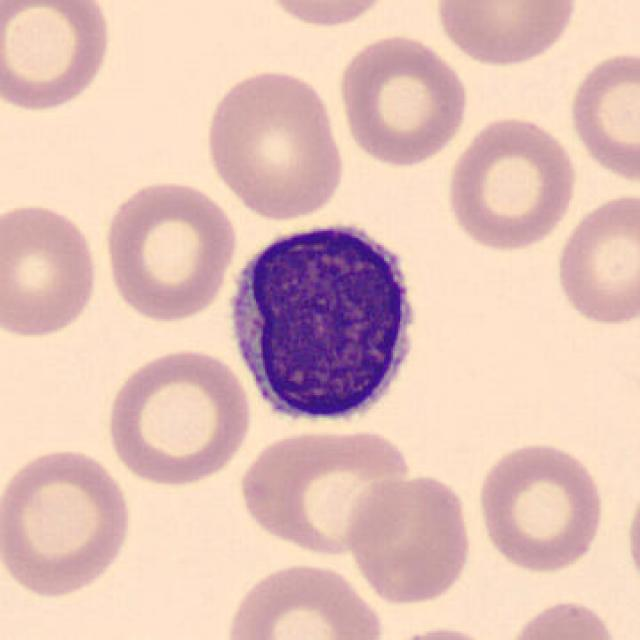Lymphocyte: (217, 208, 435, 436)
RBC: (235, 423, 420, 559), (201, 65, 348, 222), (102, 344, 255, 488), (0, 443, 137, 601), (100, 174, 240, 324), (441, 111, 579, 254), (473, 437, 608, 577), (334, 32, 471, 169), (342, 469, 476, 606), (0, 197, 101, 342), (220, 557, 386, 640), (0, 0, 116, 115), (551, 188, 638, 329), (432, 0, 581, 69), (566, 46, 638, 187), (501, 596, 624, 640), (256, 0, 398, 32), (370, 622, 508, 640), (624, 471, 640, 601)
